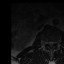CCS_normal: (50, 40, 52, 48)
LFS_stenosis: (54, 39, 56, 45)
LLS_stenosis: (52, 39, 54, 46)
RFS_normal: (45, 40, 48, 45)
RLS_normal: (48, 39, 50, 46)
